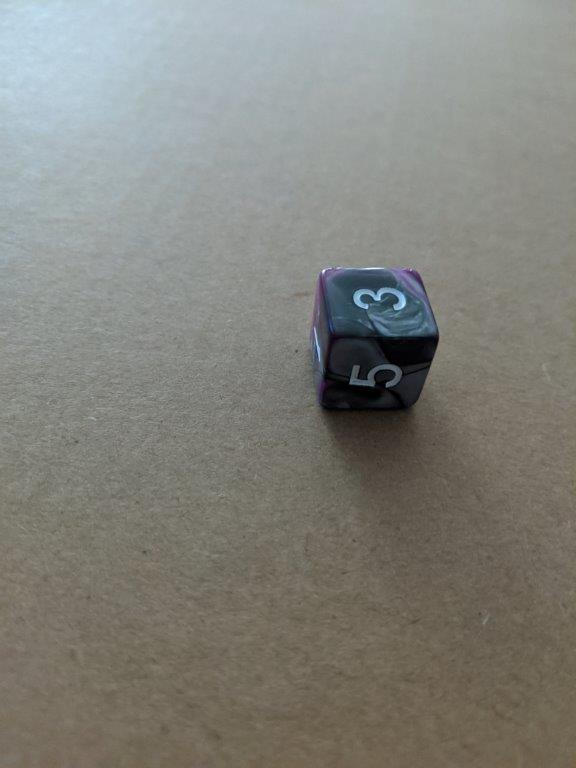d6-3: (309, 268, 440, 415)
